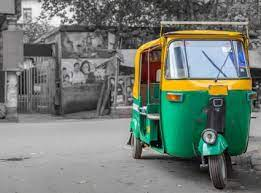auto: (127, 19, 260, 191)
